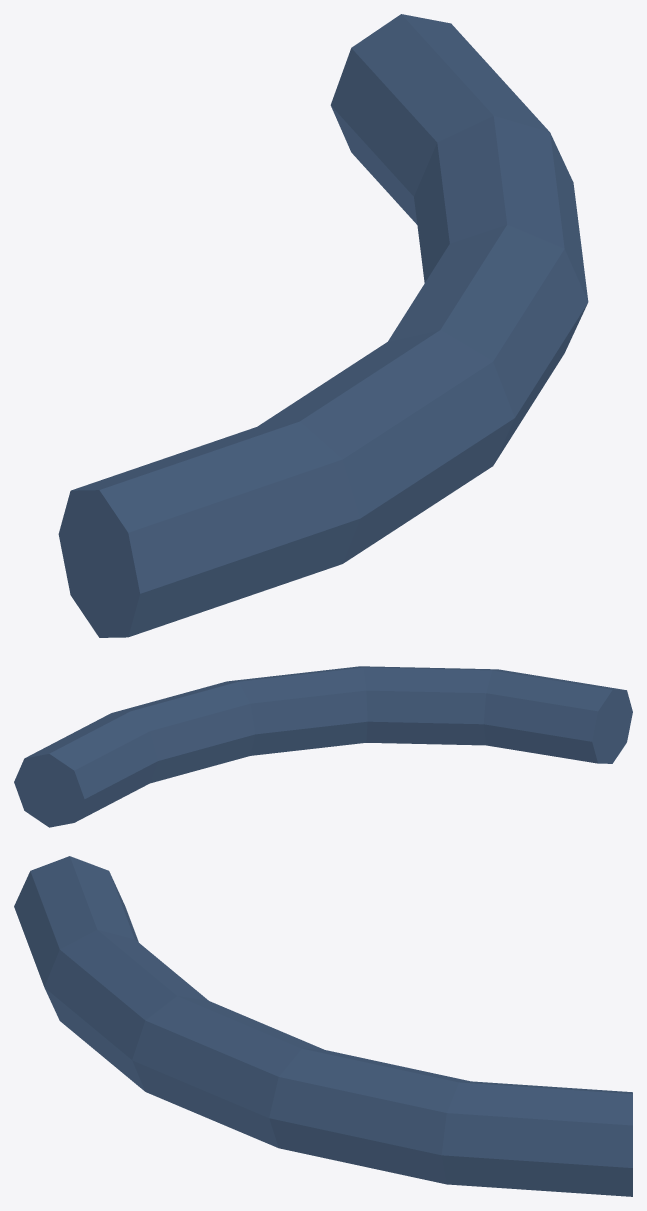
Rendered from pipeBend-b.glb.
The picture shows the model from 3 angles, top to bottom: view 1: azimuth 30°, elevation 25°; view 2: azimuth 150°, elevation 25°; view 3: azimuth 270°, elevation 25°; orthographic projection. The views are drawn at different scales.
Visible parts, largest first — view 1: pipeSeg-b1; view 2: pipeSeg-b1; view 3: pipeSeg-b1.
Boxes of the visible parts, x1,y1,x2,y2 form: pipeSeg-b1: (58, 14, 588, 637); pipeSeg-b1: (14, 666, 632, 827); pipeSeg-b1: (14, 856, 632, 1196).
Bounding box in the file's own units: 1.1 × 0.1979 × 1.1.
Materials: 1 (1 with a texture image).
